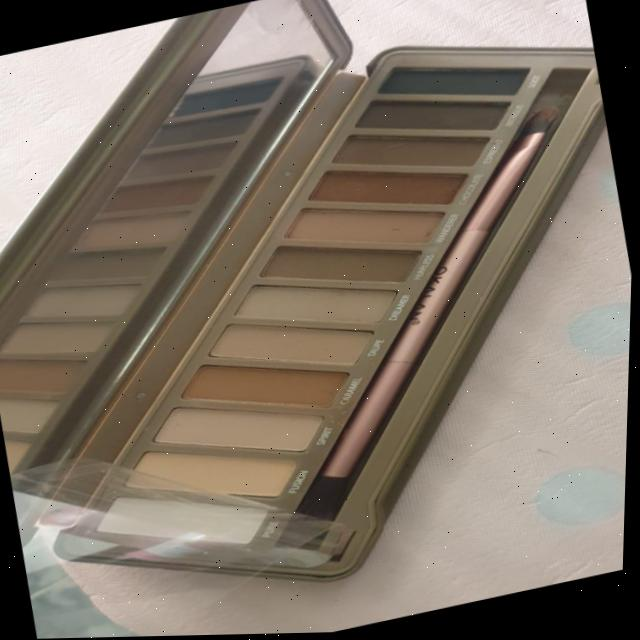brush: (487, 67, 601, 165)
eye shade: (68, 335, 374, 570), (192, 215, 457, 352), (267, 125, 502, 245), (351, 26, 540, 149)
